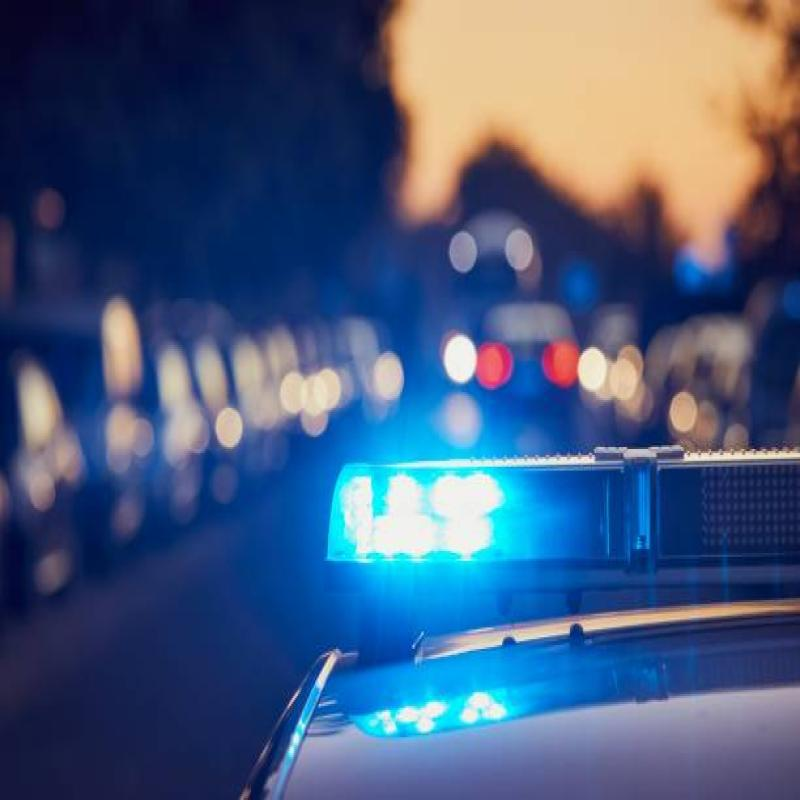AmbulanceSiren: (319, 428, 800, 620)
